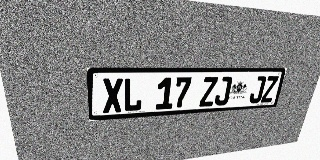1: (155, 77, 175, 110)
7: (173, 77, 192, 109)
J: (214, 76, 233, 106), (248, 76, 267, 103)
L: (123, 78, 143, 112)
X: (102, 78, 123, 113)
Z: (199, 77, 218, 107), (260, 76, 279, 103)
